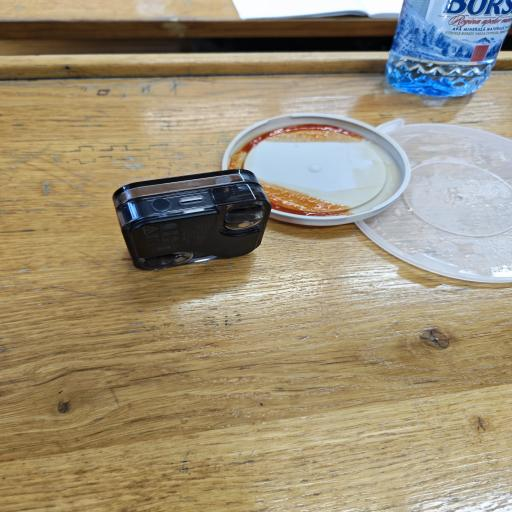Headphones: (112, 167, 278, 272)
